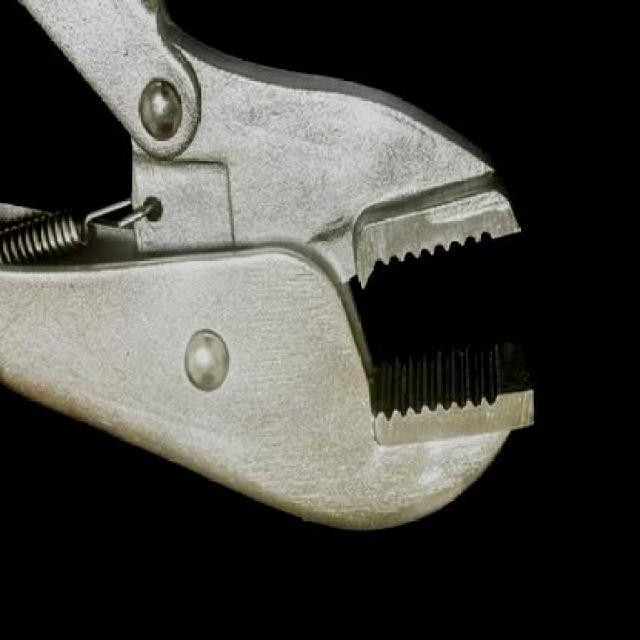pliers: (6, 0, 549, 534)
